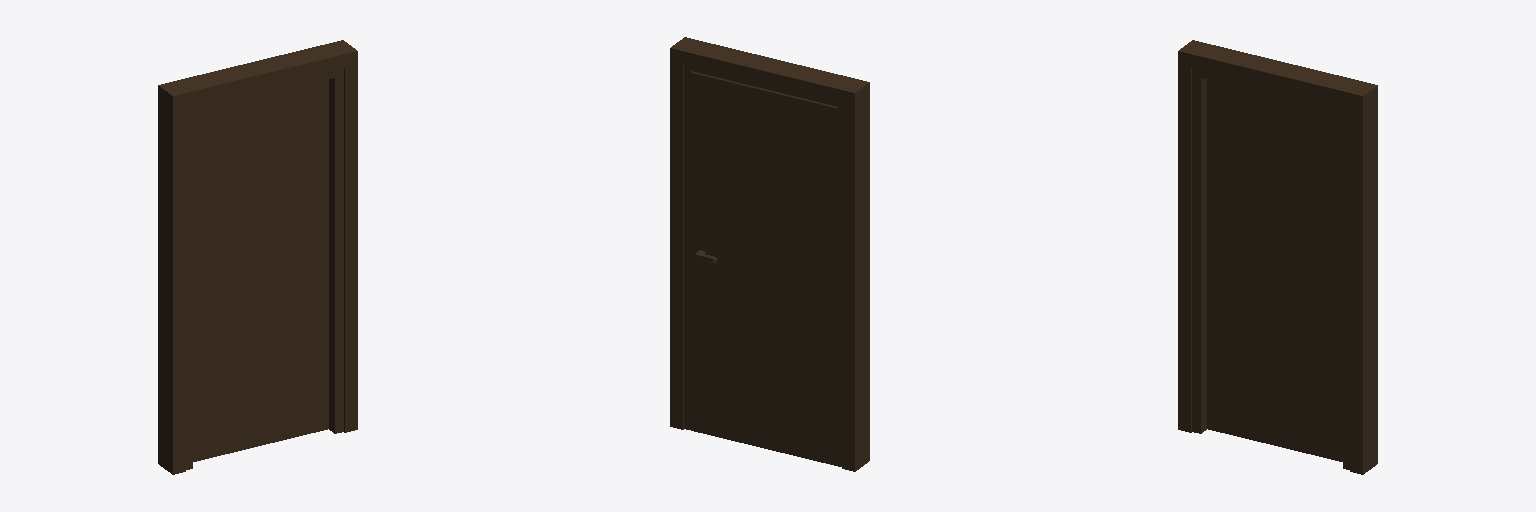
Rendered from door_Kalyoncu-Seppannen.obj.
The picture shows the model from 3 angles: view 1: azimuth 30°, elevation 25°; view 2: azimuth 150°, elevation 25°; view 3: azimuth 330°, elevation 25°; orthographic projection.
Parts seen in each view (by area): view 1: Door.000_Plane.011; view 2: Door.000_Plane.011; view 3: Door.000_Plane.011.
Boxes of the visible parts, <box> form: Door.000_Plane.011: <box>158,40,357,474</box>; Door.000_Plane.011: <box>670,37,869,471</box>; Door.000_Plane.011: <box>1178,40,1377,474</box>.
Size of the model in its own units: 1.07 by 2.09 by 0.19.